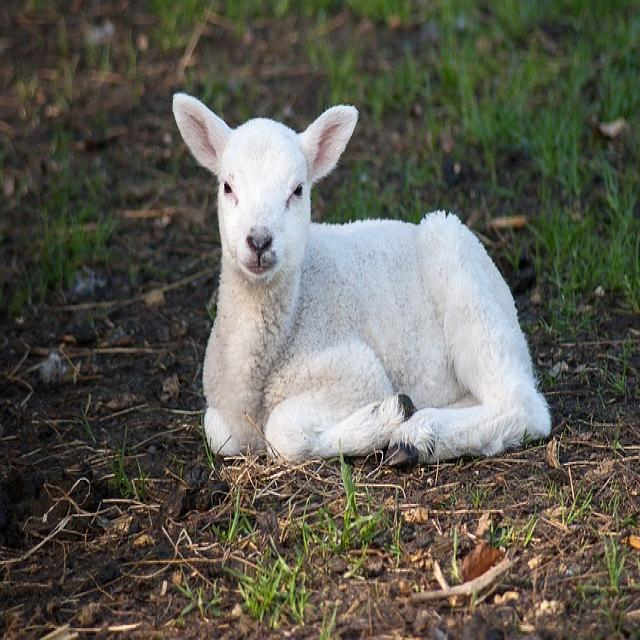sheep: (171, 90, 552, 468)
